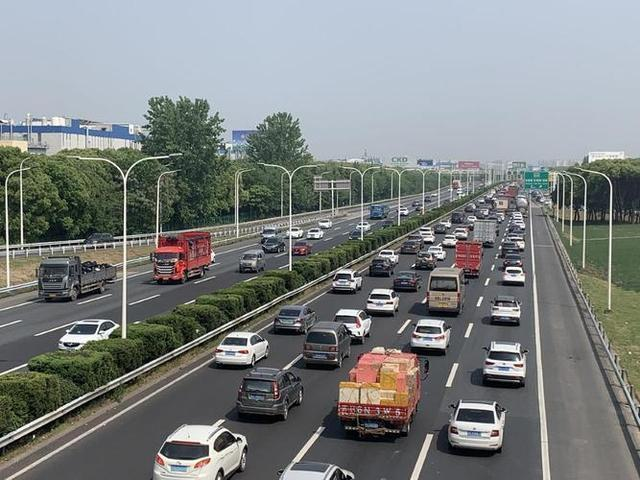bus: (422, 264, 470, 315)
car: (144, 409, 248, 480), (235, 362, 307, 413), (445, 397, 503, 456), (302, 317, 352, 374), (53, 316, 113, 360), (478, 339, 526, 391), (273, 452, 356, 480), (329, 306, 377, 345), (411, 316, 460, 353), (220, 332, 269, 366), (273, 299, 320, 334), (487, 295, 520, 327), (367, 282, 397, 315), (393, 270, 429, 296), (233, 246, 265, 274), (328, 271, 362, 295), (410, 248, 438, 267), (261, 233, 284, 256), (503, 263, 526, 285), (499, 251, 523, 271), (350, 219, 378, 236), (380, 248, 404, 267), (370, 254, 393, 272), (400, 242, 425, 258), (498, 241, 520, 258), (436, 231, 459, 247), (314, 216, 334, 229), (429, 244, 444, 260), (349, 229, 364, 244), (294, 241, 310, 255), (308, 227, 323, 241), (434, 220, 450, 233), (282, 223, 299, 234), (420, 228, 429, 241), (454, 227, 463, 238)
truck: (37, 254, 134, 297), (146, 232, 215, 278), (450, 237, 485, 282), (474, 218, 499, 246), (370, 198, 390, 220), (494, 200, 509, 217)
